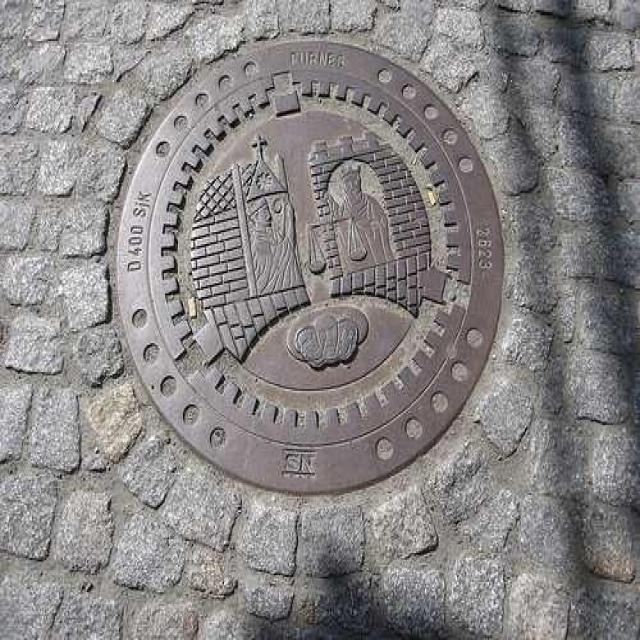manhole: (119, 42, 500, 492)
